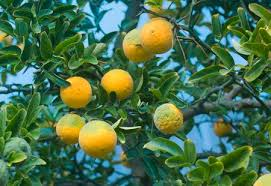orange: (77, 121, 120, 155), (120, 28, 157, 65), (99, 66, 135, 102), (57, 75, 94, 109), (140, 19, 176, 52), (54, 113, 88, 144)
